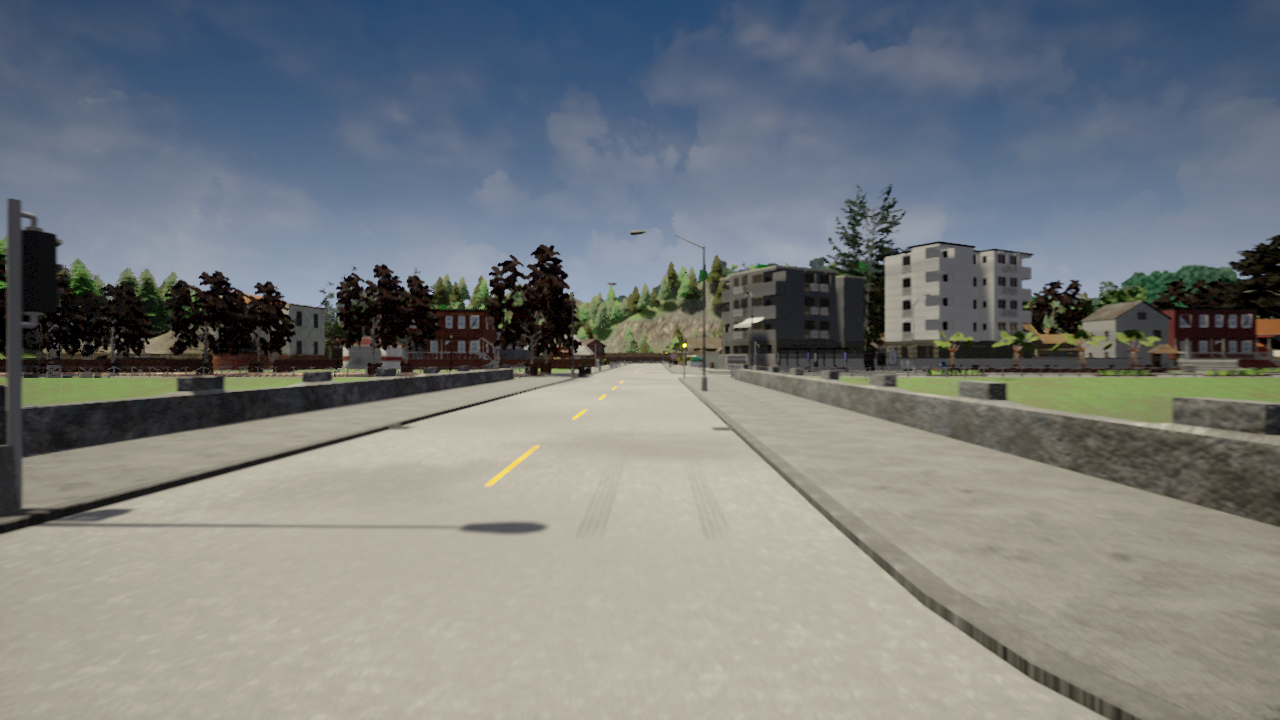yellow: (682, 338, 688, 352)
